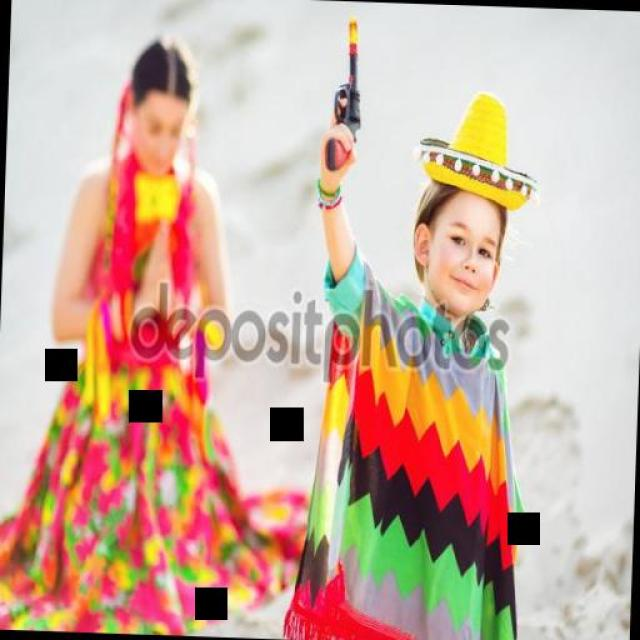gun: (316, 12, 376, 166)
